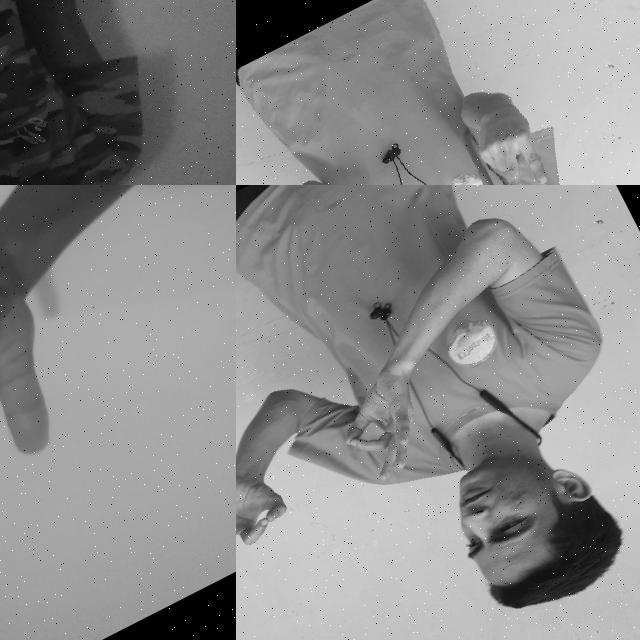Okay: (314, 348, 454, 494), (236, 437, 320, 607)
Reversed Victory: (448, 87, 568, 185)
Thumbs Up: (0, 201, 107, 499)
